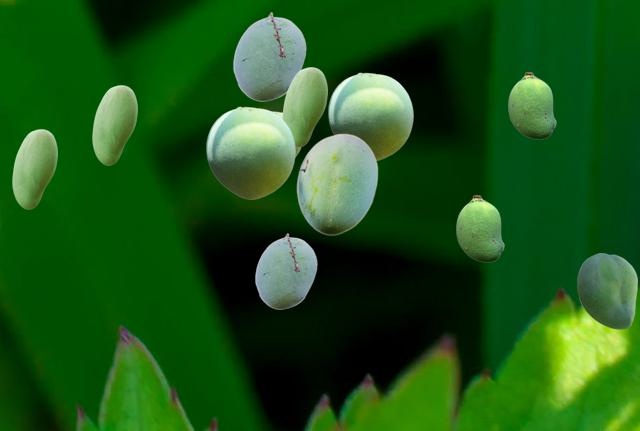green_mango: (296, 133, 377, 234), (206, 106, 294, 198), (328, 72, 412, 160), (233, 12, 305, 100), (255, 233, 316, 308), (577, 253, 636, 328), (12, 129, 56, 208), (282, 67, 326, 146), (92, 85, 136, 164), (456, 195, 503, 261), (508, 72, 555, 138), (273, 111, 301, 158)
